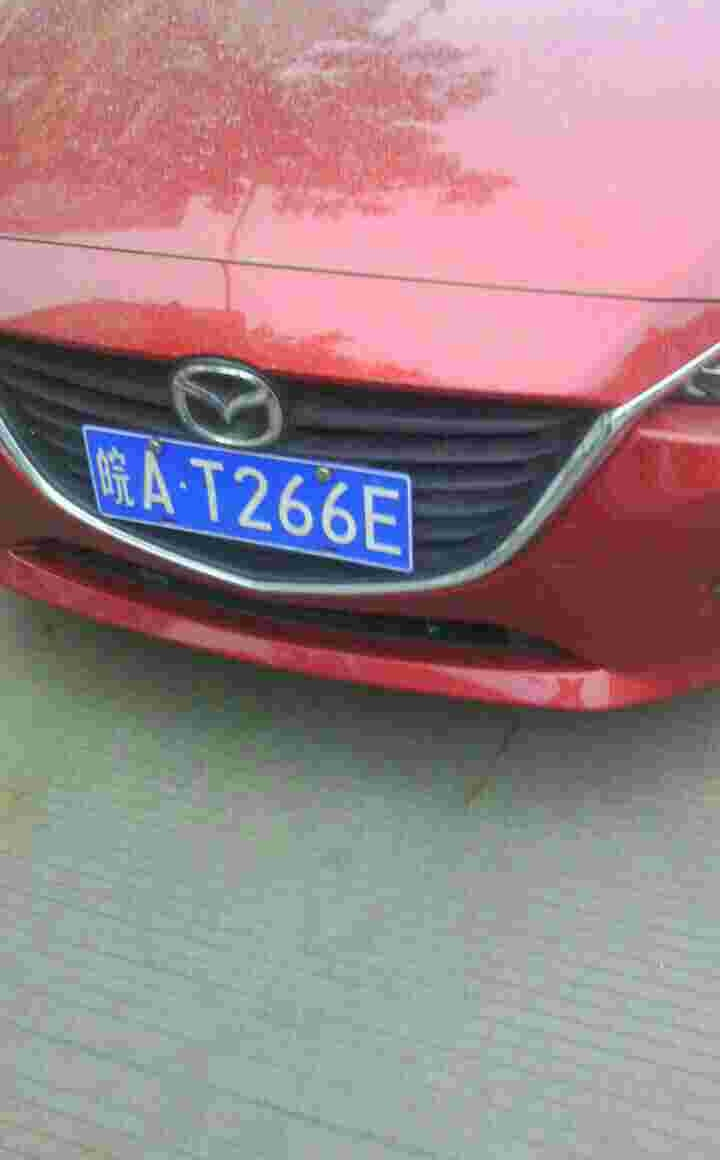car_blue: (82, 423, 422, 586)
